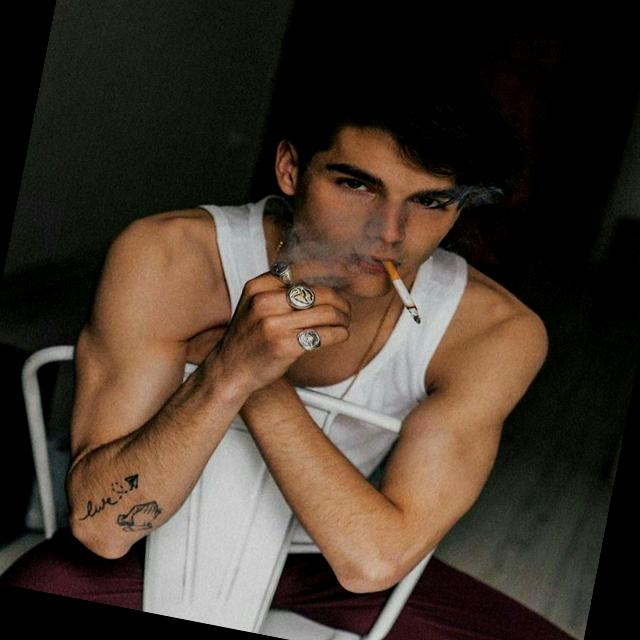smoke: (363, 250, 455, 340)
